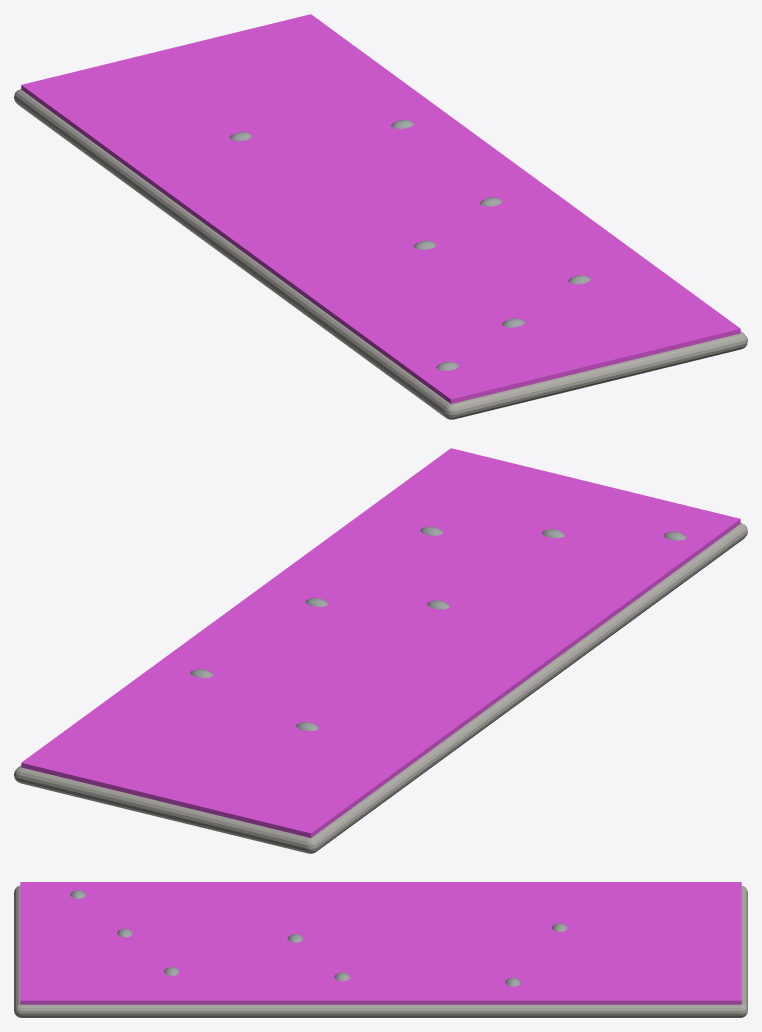
3 views of the same model, one above another, from view 1: azimuth 30°, elevation 25°; view 2: azimuth 150°, elevation 25°; view 3: azimuth 270°, elevation 25° (orthographic). The views are drawn at different scales.
Parts seen in each view (by area): view 1: NAV_MASK_FOREST_PATH_GRAVEL_STRAIGHT_MAIN, LOD0_FOREST_PATH_GRAVEL_STRAIGHT_Surface; view 2: NAV_MASK_FOREST_PATH_GRAVEL_STRAIGHT_MAIN, LOD0_FOREST_PATH_GRAVEL_STRAIGHT_Surface; view 3: NAV_MASK_FOREST_PATH_GRAVEL_STRAIGHT_MAIN, LOD0_FOREST_PATH_GRAVEL_STRAIGHT_Surface.
Part boxes in pixels (x1=…): NAV_MASK_FOREST_PATH_GRAVEL_STRAIGHT_MAIN: x1=21, y1=14, x2=740, y2=403; LOD0_FOREST_PATH_GRAVEL_STRAIGHT_Surface: x1=14, y1=89, x2=747, y2=419; NAV_MASK_FOREST_PATH_GRAVEL_STRAIGHT_MAIN: x1=21, y1=448, x2=740, y2=837; LOD0_FOREST_PATH_GRAVEL_STRAIGHT_Surface: x1=14, y1=523, x2=747, y2=853; NAV_MASK_FOREST_PATH_GRAVEL_STRAIGHT_MAIN: x1=20, y1=882, x2=741, y2=1004; LOD0_FOREST_PATH_GRAVEL_STRAIGHT_Surface: x1=14, y1=885, x2=747, y2=1017.
Size of what is drawn, in the model's own units: 3.2 by 0.24 by 8.
